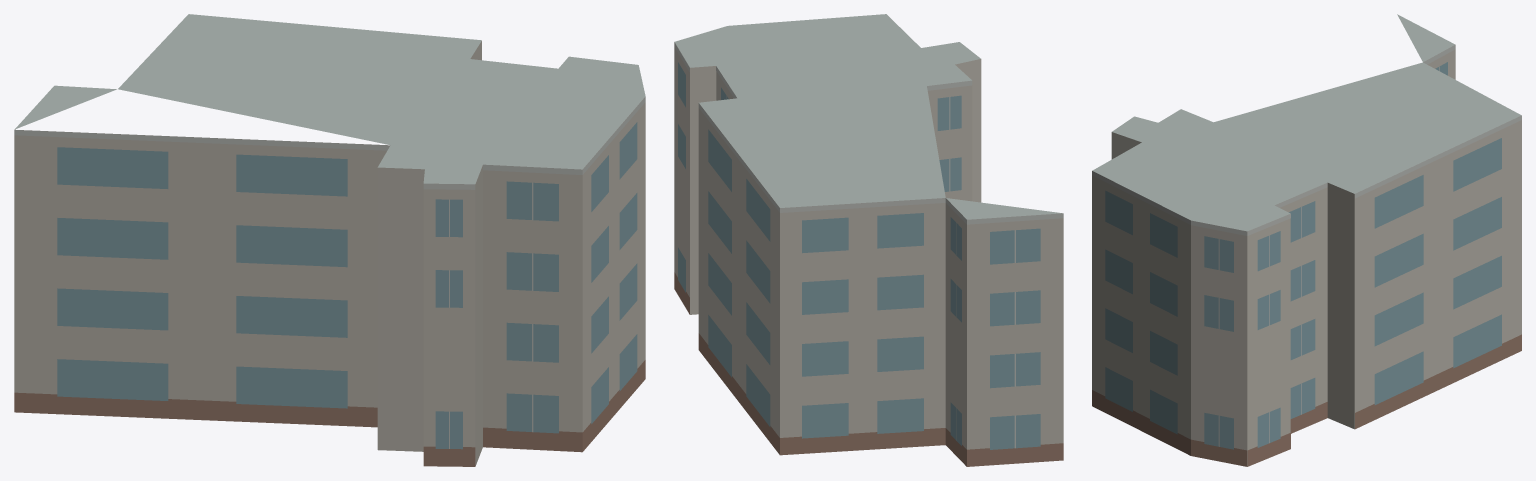
The model's file is survey-upis-32956789.glb.
3 views of the same model, side by side, from view 1: azimuth 30°, elevation 25°; view 2: azimuth 150°, elevation 25°; view 3: azimuth 270°, elevation 25° (orthographic). The views are drawn at different scales.
Visible parts, largest first — view 1: survey-upis-32956789.tmp; view 2: survey-upis-32956789.tmp; view 3: survey-upis-32956789.tmp.
Part boxes in pixels (left/top/right/bottom): survey-upis-32956789.tmp: left=14, top=14, right=645, bottom=466; survey-upis-32956789.tmp: left=674, top=14, right=1063, bottom=466; survey-upis-32956789.tmp: left=1092, top=14, right=1521, bottom=466.
Size of the model in its own units: 24.36 by 12.3 by 20.35.
